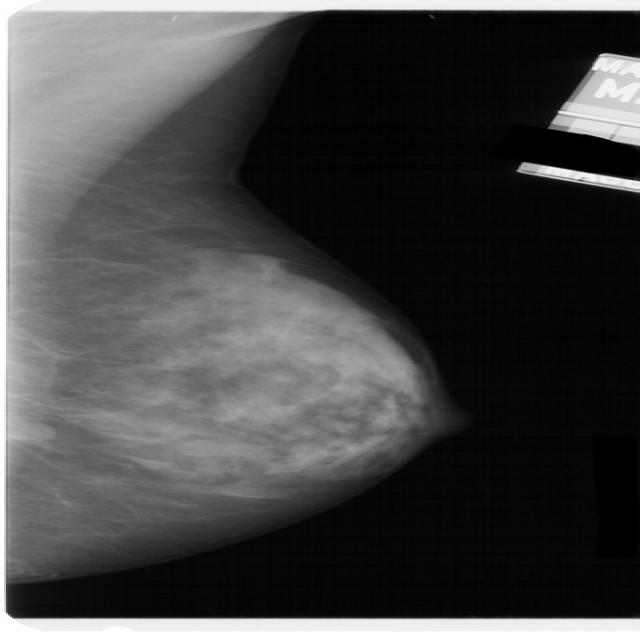tumour: (4, 420, 54, 441)
